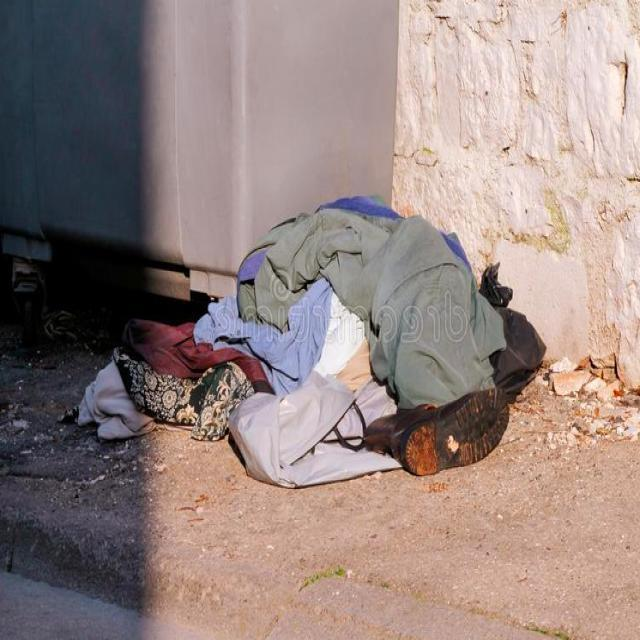clothes: (112, 218, 510, 462)
